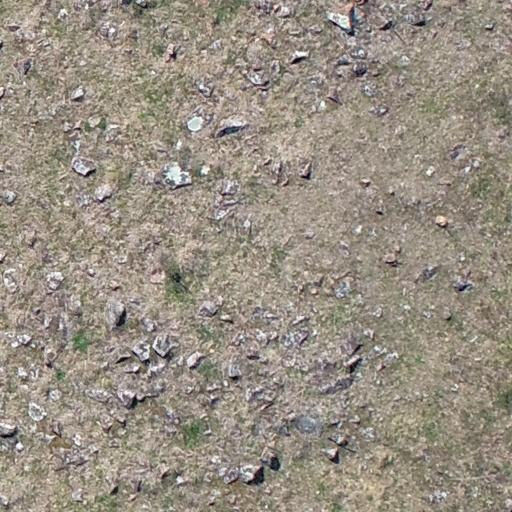stone: (160, 162, 194, 190), (183, 107, 214, 133), (54, 447, 90, 469), (105, 298, 129, 330), (42, 310, 69, 338), (319, 375, 356, 395), (214, 118, 248, 139), (244, 385, 275, 408), (150, 335, 181, 356), (281, 328, 309, 350), (71, 156, 97, 177), (338, 337, 362, 359), (10, 24, 36, 44), (115, 388, 138, 410), (131, 340, 152, 364), (239, 464, 263, 485), (44, 101, 70, 120), (27, 401, 49, 423), (259, 446, 281, 468), (268, 160, 286, 186), (44, 270, 65, 292), (147, 356, 168, 378), (413, 266, 438, 284), (84, 387, 112, 403), (246, 70, 270, 88), (218, 466, 240, 485), (451, 275, 474, 293), (332, 279, 352, 299), (14, 58, 34, 78), (242, 339, 262, 359), (66, 294, 84, 316), (250, 304, 272, 322), (404, 12, 430, 27), (195, 300, 219, 316), (137, 384, 161, 400), (102, 123, 122, 142), (448, 143, 468, 162), (178, 378, 198, 397), (185, 353, 210, 368), (220, 178, 240, 196), (93, 184, 113, 202), (98, 22, 118, 40), (148, 267, 166, 286), (104, 474, 121, 494), (211, 206, 233, 221), (97, 414, 115, 432), (344, 353, 362, 371), (65, 125, 83, 143), (259, 30, 278, 47), (43, 347, 57, 369), (164, 408, 181, 426), (0, 421, 19, 437), (328, 432, 348, 447), (368, 104, 389, 118), (164, 43, 178, 64), (227, 362, 243, 380), (196, 82, 214, 98), (322, 447, 340, 463), (22, 231, 38, 249), (289, 50, 309, 64), (70, 85, 86, 102), (254, 329, 271, 345), (352, 61, 368, 78), (76, 192, 92, 209), (434, 213, 450, 230), (298, 160, 312, 179), (140, 317, 156, 333), (230, 331, 246, 347), (38, 432, 56, 446), (274, 4, 292, 18), (122, 362, 142, 374), (129, 478, 143, 495), (360, 426, 376, 440), (344, 35, 360, 49), (376, 19, 394, 31), (2, 190, 17, 204), (47, 388, 62, 402), (86, 115, 102, 128), (383, 252, 399, 265), (70, 488, 84, 502), (292, 314, 308, 326), (28, 365, 40, 381), (396, 55, 412, 67), (338, 241, 350, 257), (51, 421, 63, 437), (382, 352, 398, 364), (484, 21, 500, 33), (158, 24, 171, 38), (18, 333, 32, 346), (362, 84, 376, 97), (269, 60, 281, 75), (208, 38, 223, 50), (350, 48, 366, 59), (42, 313, 52, 330), (200, 163, 212, 177), (370, 306, 384, 318), (207, 492, 219, 506), (159, 466, 171, 480), (71, 433, 83, 447), (287, 25, 302, 36), (373, 345, 388, 356), (218, 313, 234, 323), (308, 24, 324, 34), (16, 366, 28, 379), (302, 229, 316, 240), (362, 328, 374, 340), (175, 475, 187, 487), (57, 8, 69, 20), (394, 124, 406, 136), (206, 382, 220, 392), (71, 140, 81, 153), (359, 178, 372, 188), (242, 218, 252, 230), (85, 267, 97, 277), (14, 441, 24, 453), (442, 309, 452, 321), (375, 204, 385, 216), (210, 455, 222, 465), (7, 24, 21, 32), (316, 100, 326, 111), (422, 310, 434, 319), (353, 224, 363, 234), (425, 166, 435, 176), (393, 244, 402, 254), (461, 166, 472, 174), (175, 140, 183, 150), (202, 428, 212, 436)
